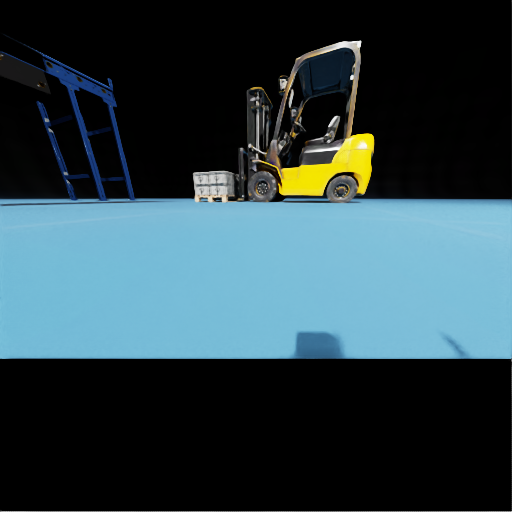transportation_area: (209, 184, 238, 194)
